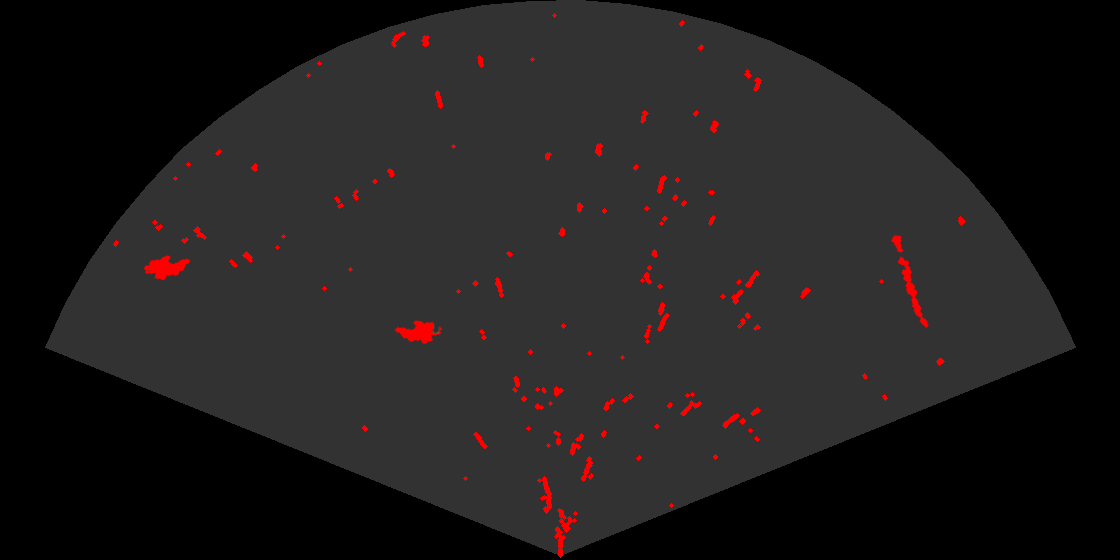AUV: (142, 254, 192, 282), (393, 319, 444, 346)
chain: (889, 233, 930, 330)
